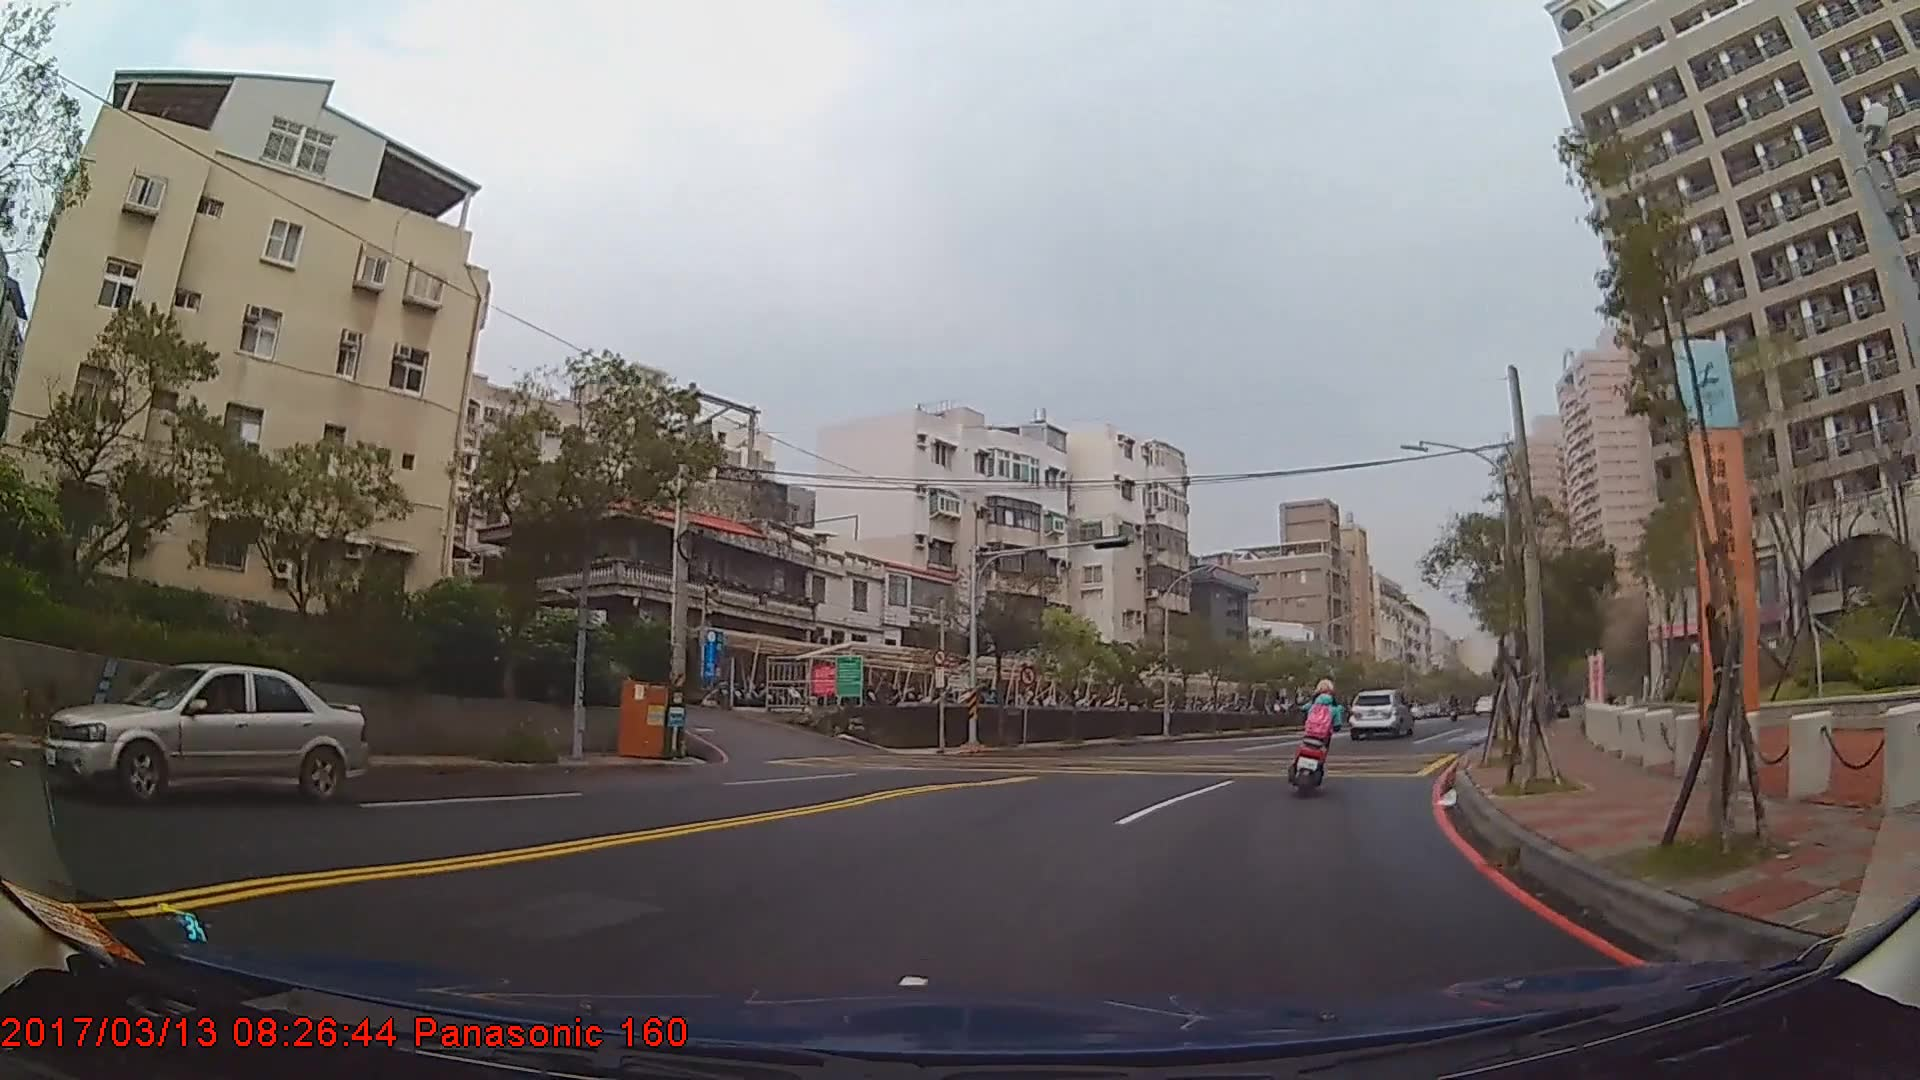rider: (1289, 677, 1345, 791)
vehicle: (37, 662, 372, 808), (1346, 688, 1412, 737)
